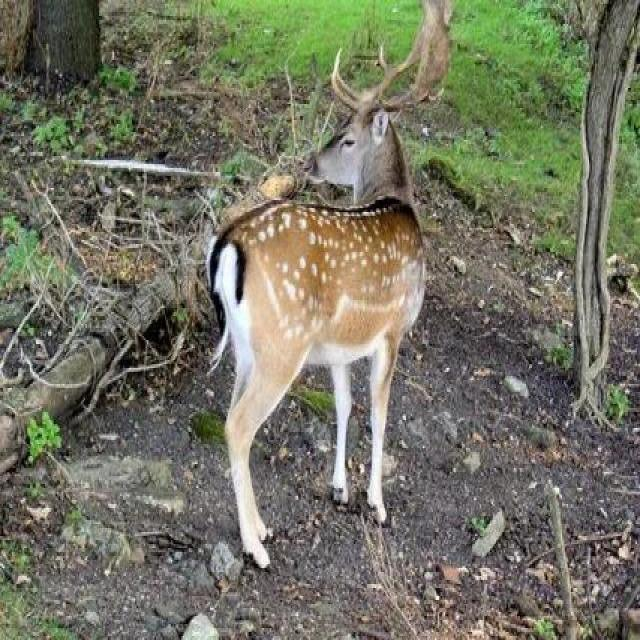deer: (152, 19, 490, 453)
